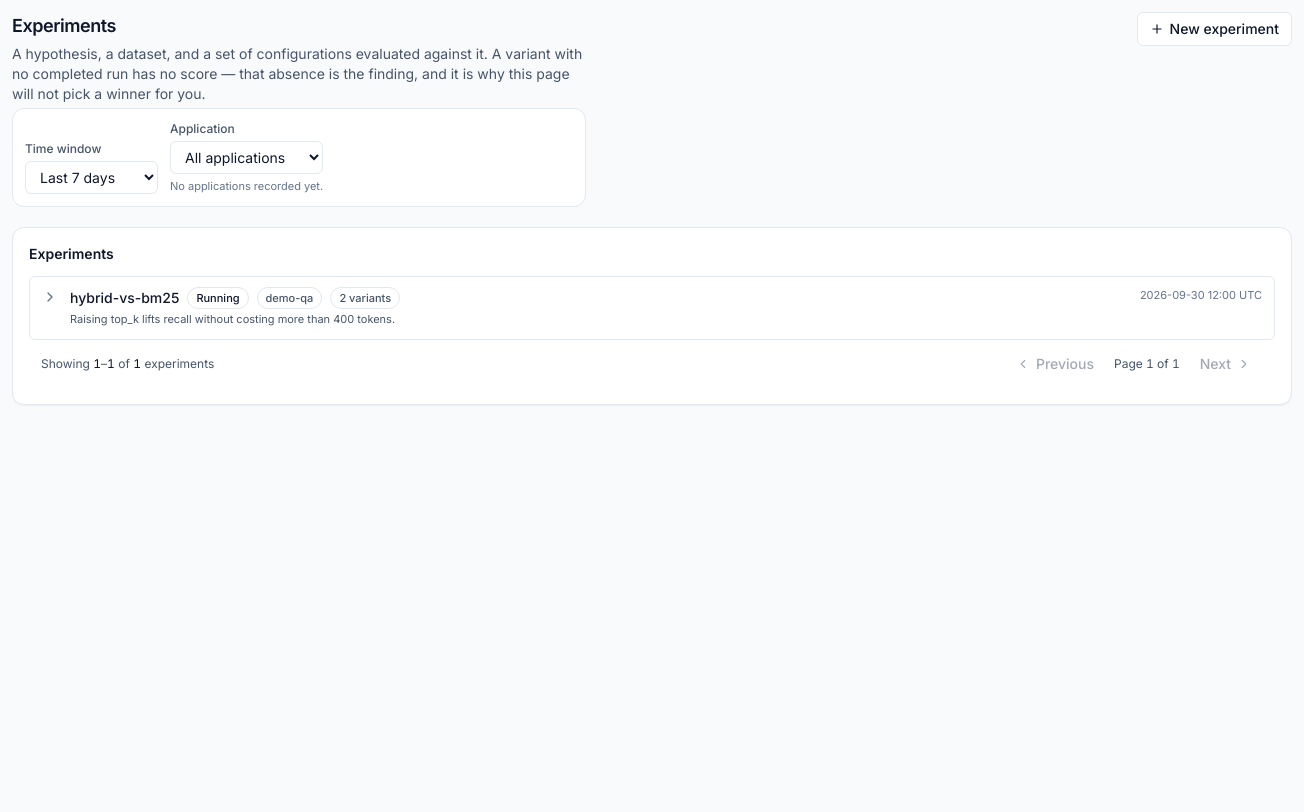
Test case: ExperimentsPage › labels an unevaluated variant instead of scoring it zero
Click the button "hybrid-vs-bm25" at (125, 298), box 30,277 -> 1274,339
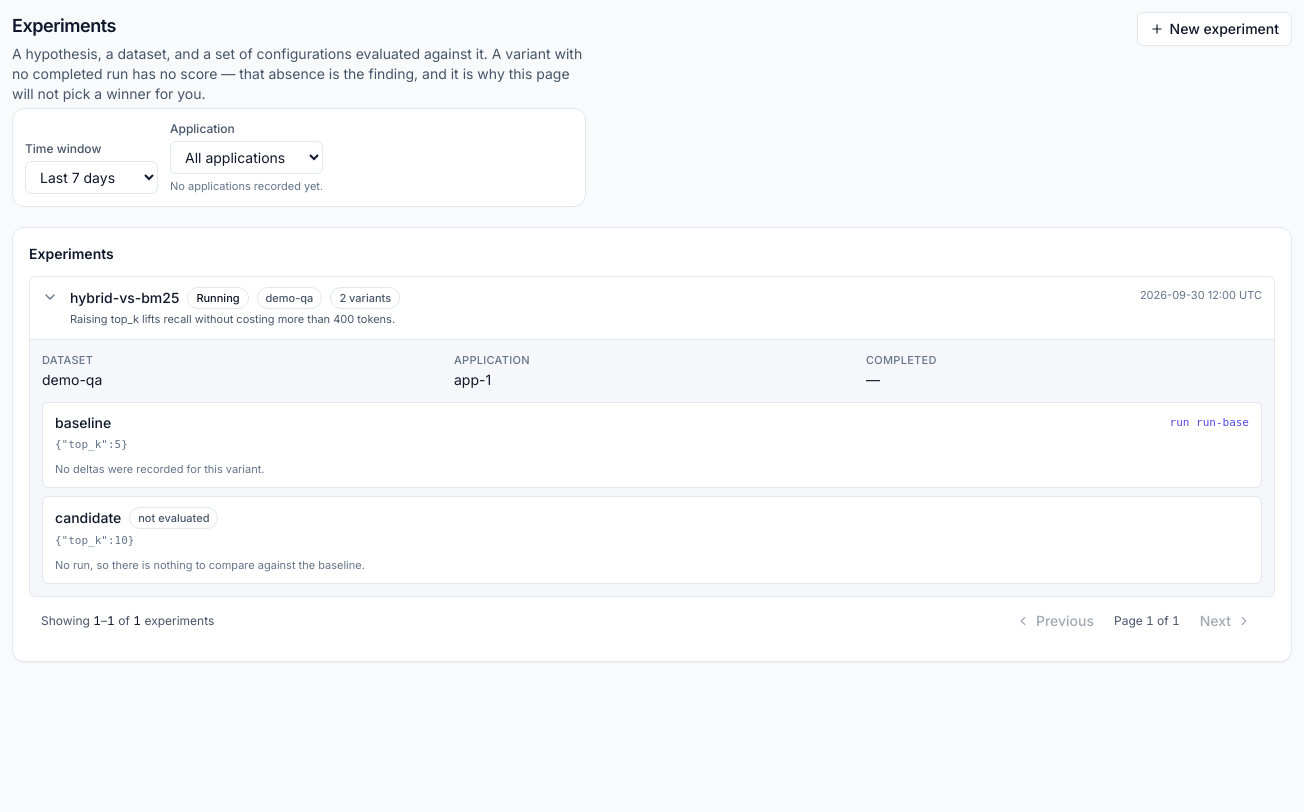
expect the text "not evaluated" is shown: met, box 129,507 -> 218,529
expect the list item "candidate" shows "No run, so there is nothing to compare": met, box 55,558 -> 365,572
